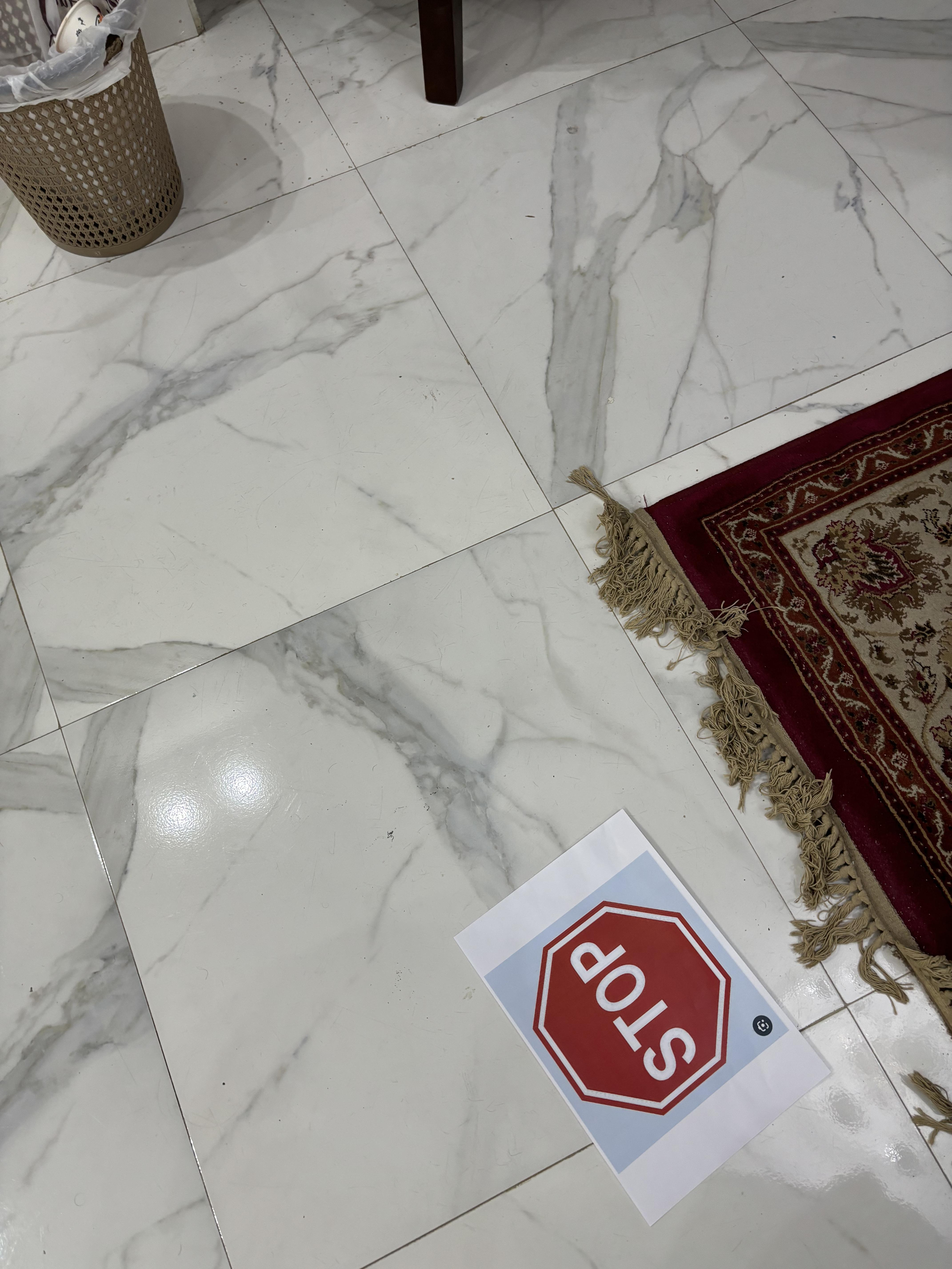Stop: (530, 894, 738, 1126)
